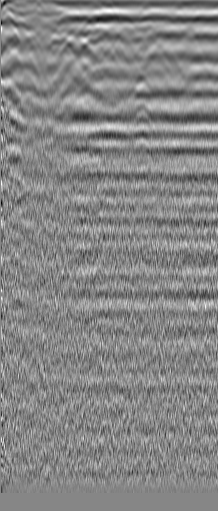오수: (17, 31, 37, 51)
우수: (149, 38, 169, 58)
